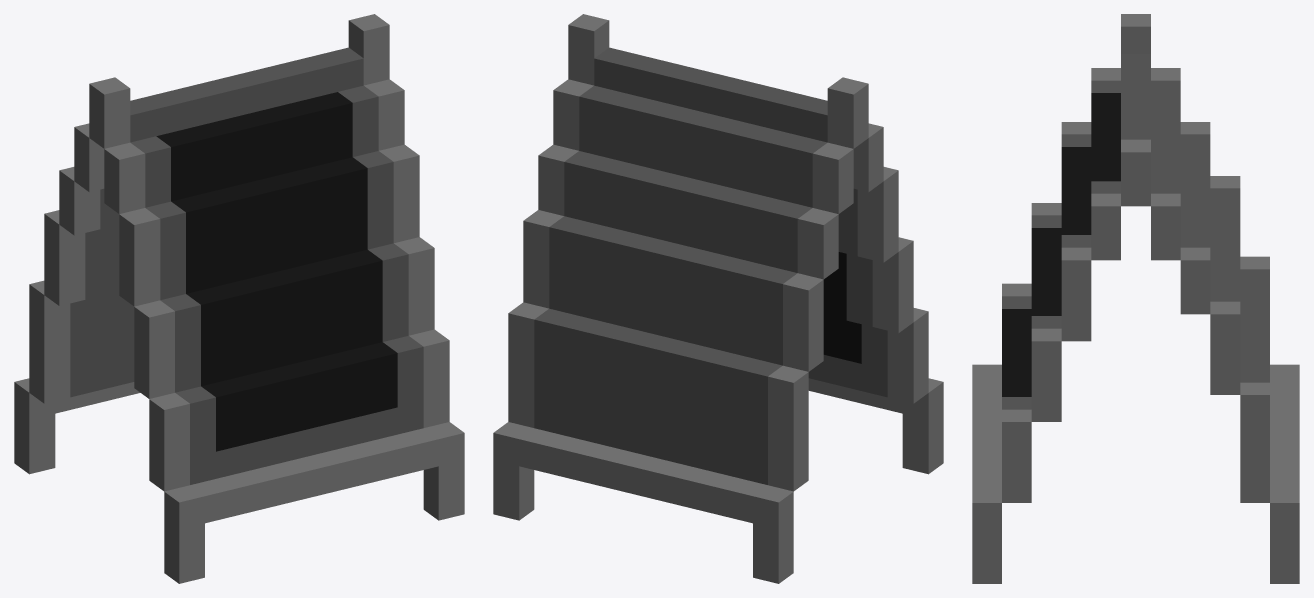
File: cafeSignBoard.glb
3 views of the same model, side by side, from view 1: azimuth 30°, elevation 25°; view 2: azimuth 150°, elevation 25°; view 3: azimuth 270°, elevation 25° (orthographic).
Parts seen in each view (by area): view 1: ObjObject; view 2: ObjObject; view 3: ObjObject.
Boxes of the visible parts, x1,y1,x2,y2 form: ObjObject: (14, 14, 464, 583); ObjObject: (493, 14, 943, 583); ObjObject: (972, 14, 1299, 583).
Size of the model in its own units: 1.1 by 1.6 by 1.1.
Materials: 1 (1 with a texture image).
